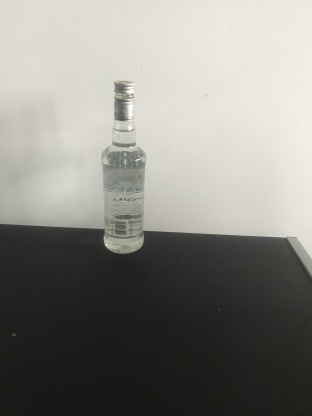nakretka: (112, 78, 136, 121)
